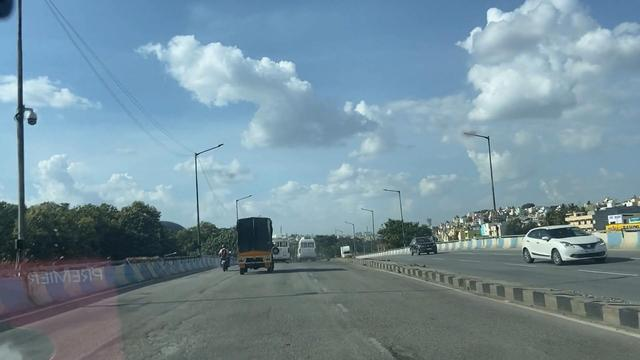HMV: (231, 215, 277, 274)
LMV: (213, 237, 232, 274)
RoadDamages: (329, 309, 432, 359), (124, 315, 225, 358)
